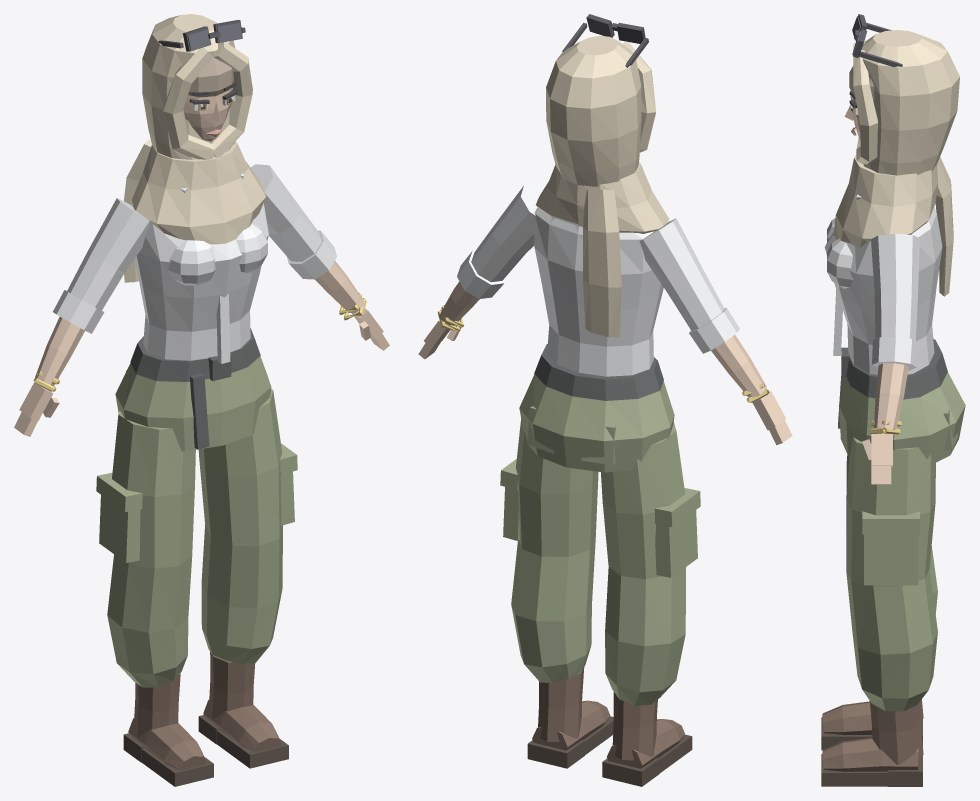
File: tactical_hijab.glb
3 views of the same model, side by side, from view 1: azimuth 30°, elevation 25°; view 2: azimuth 150°, elevation 25°; view 3: azimuth 270°, elevation 25° (orthographic).
Visible parts, largest first — view 1: Outfit_Pants, Outfit_Top, Hijab, Footwear_Boots, Arms, Head, Accessories; view 2: Outfit_Pants, Hijab, Outfit_Top, Footwear_Boots, Arms, Accessories; view 3: Outfit_Pants, Hijab, Outfit_Top, Footwear_Boots, Arms, Accessories, Head.
Part boxes in pixels (bbox=[...]): Outfit_Pants: bbox=[96, 328, 297, 687]; Outfit_Top: bbox=[53, 164, 336, 363]; Hijab: bbox=[124, 14, 265, 282]; Footwear_Boots: bbox=[123, 652, 288, 786]; Arms: bbox=[14, 261, 389, 436]; Head: bbox=[183, 82, 237, 141]; Accessories: bbox=[33, 20, 366, 391]; Outfit_Pants: bbox=[500, 343, 700, 705]; Hijab: bbox=[536, 36, 669, 337]; Outfit_Top: bbox=[457, 184, 739, 376]; Footwear_Boots: bbox=[527, 667, 692, 786]; Arms: bbox=[418, 281, 792, 445]; Accessories: bbox=[438, 14, 769, 402]; Outfit_Pants: bbox=[838, 339, 965, 711]; Hijab: bbox=[833, 30, 959, 296]; Outfit_Top: bbox=[824, 194, 942, 374]; Footwear_Boots: bbox=[821, 699, 923, 786]; Arms: bbox=[862, 363, 908, 484]; Accessories: bbox=[852, 14, 902, 434]; Head: bbox=[844, 90, 860, 140].
Bounding box in the file's own units: 0.8975 × 1.72 × 0.3068.
